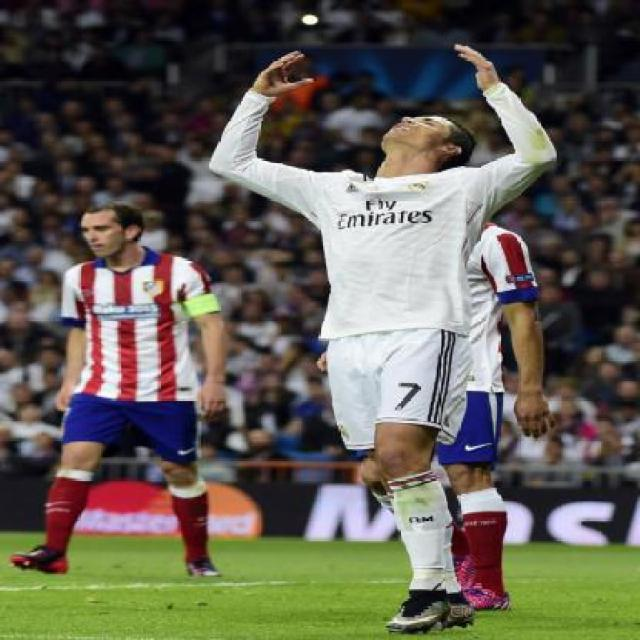Person: (232, 66, 550, 640), (28, 207, 226, 591)
